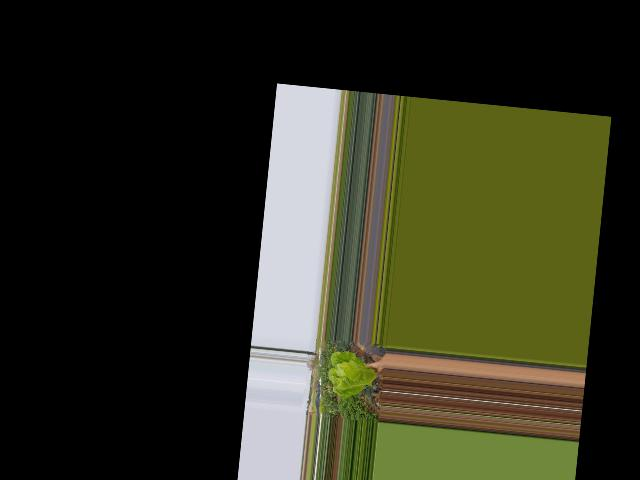lettuce: (325, 347, 382, 401)
